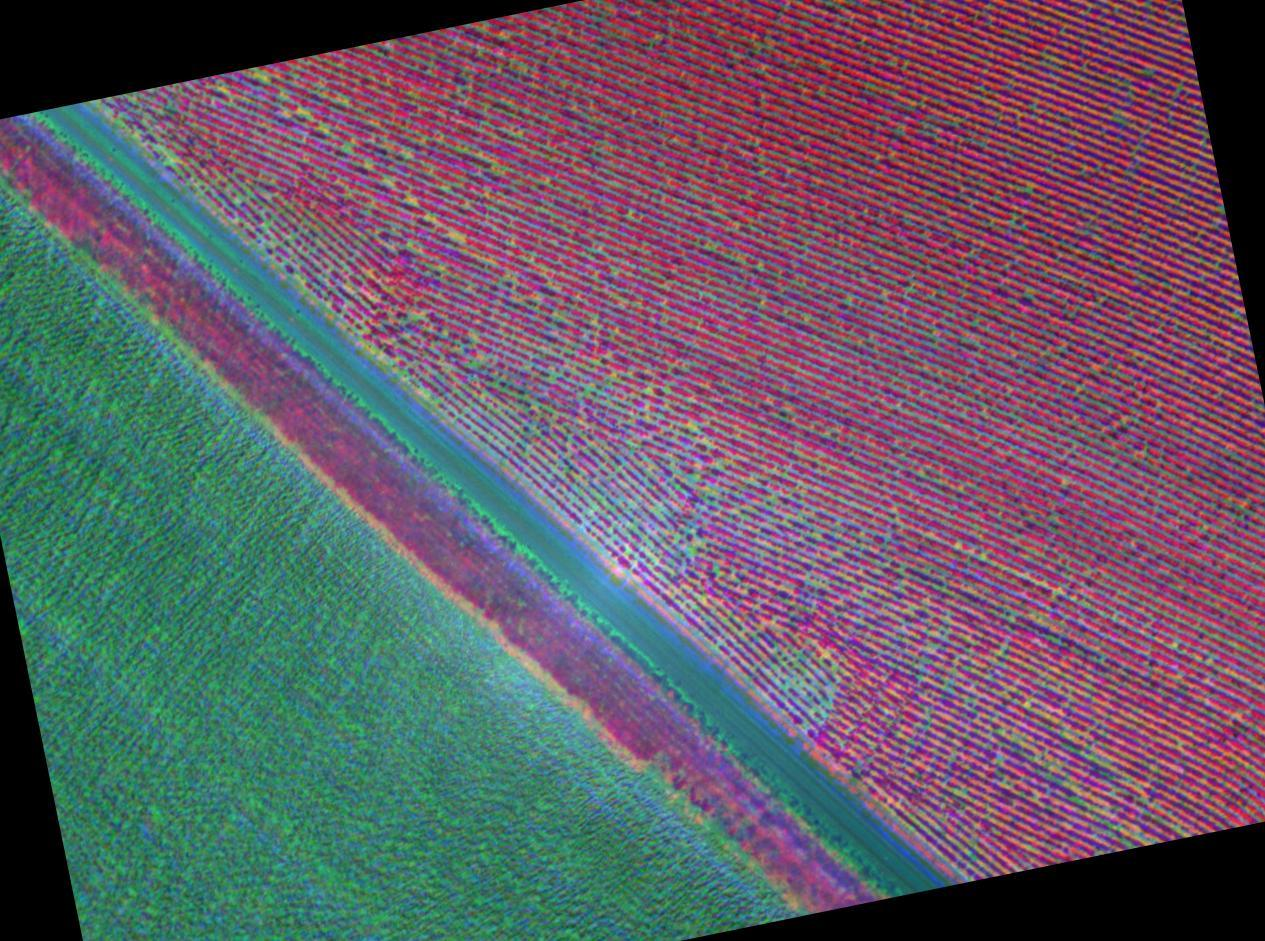dc: (647, 389, 651, 394), (260, 74, 264, 79), (613, 267, 617, 271), (772, 498, 776, 502), (714, 568, 718, 572), (426, 217, 429, 221)
